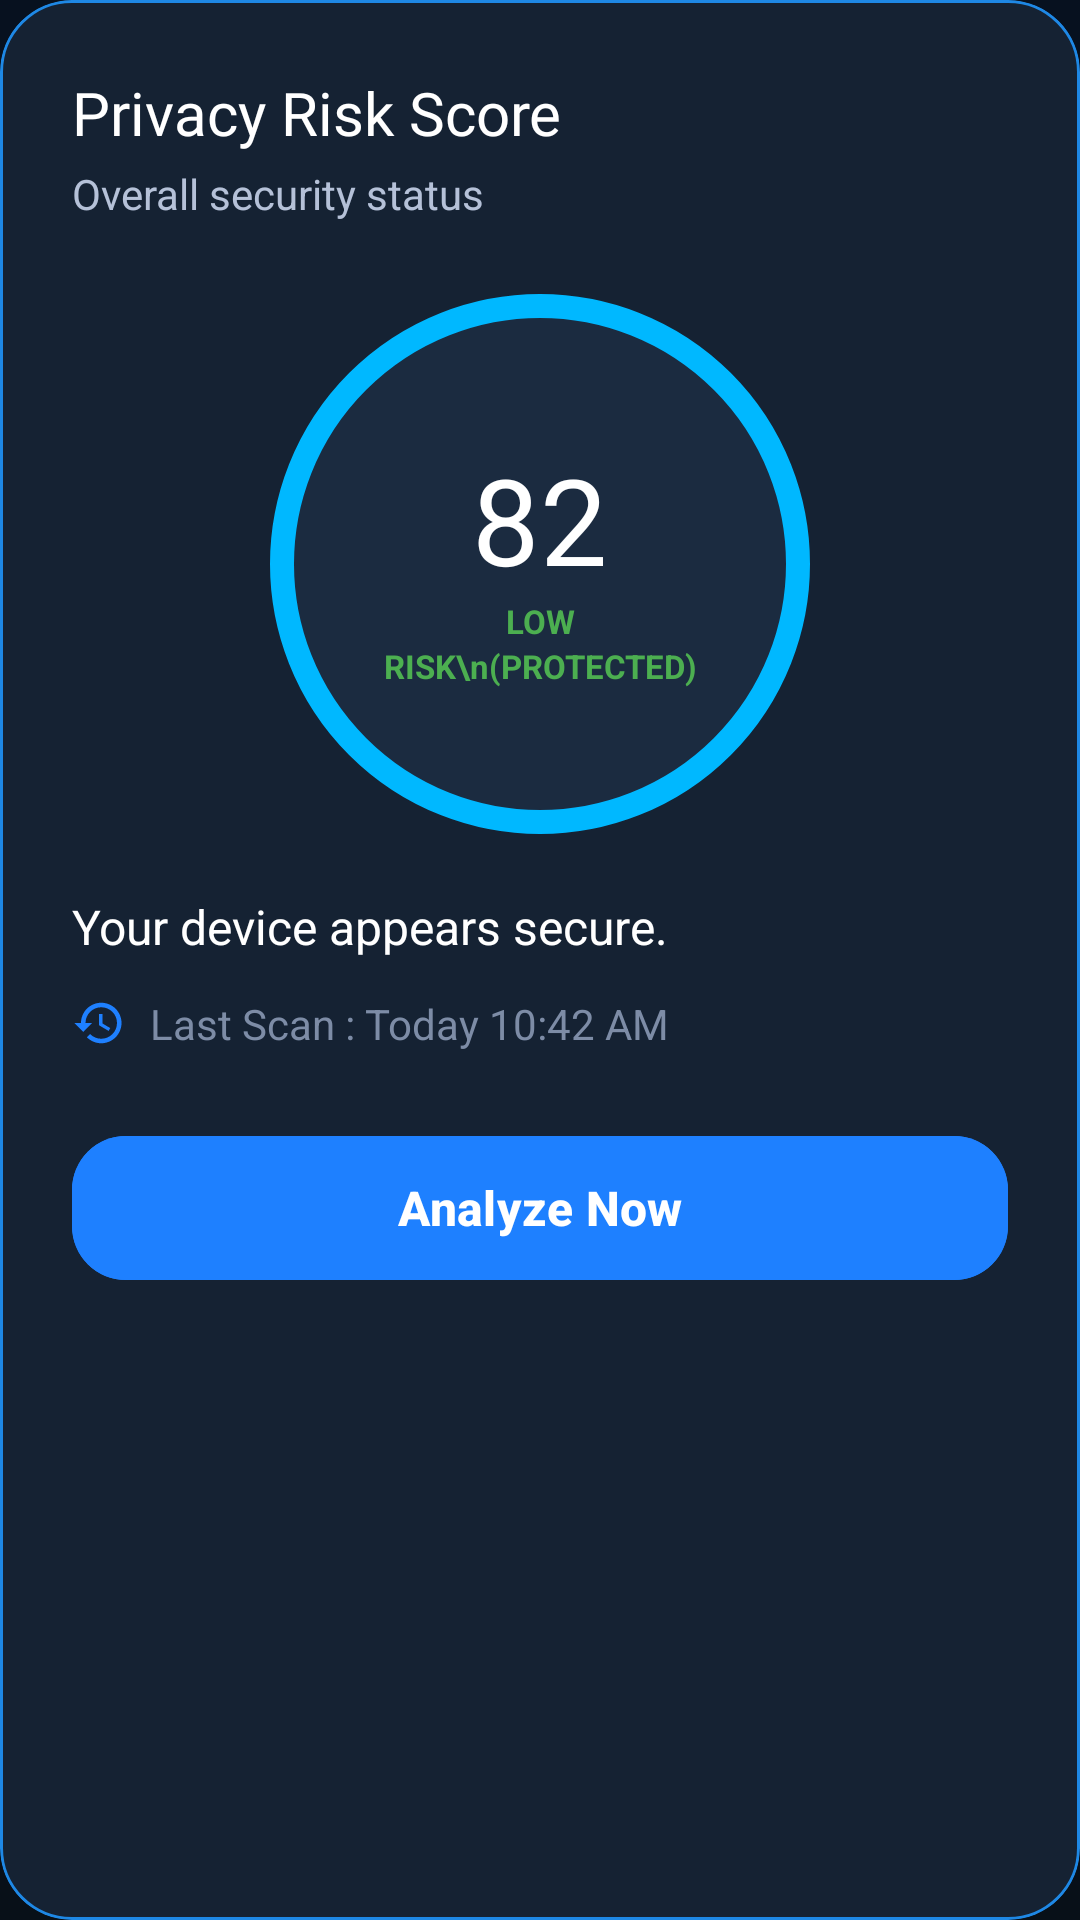

Point at icon controls on the screen. Image size 1080px×1920px, points as point (x, y).
history: point (98, 1023)
